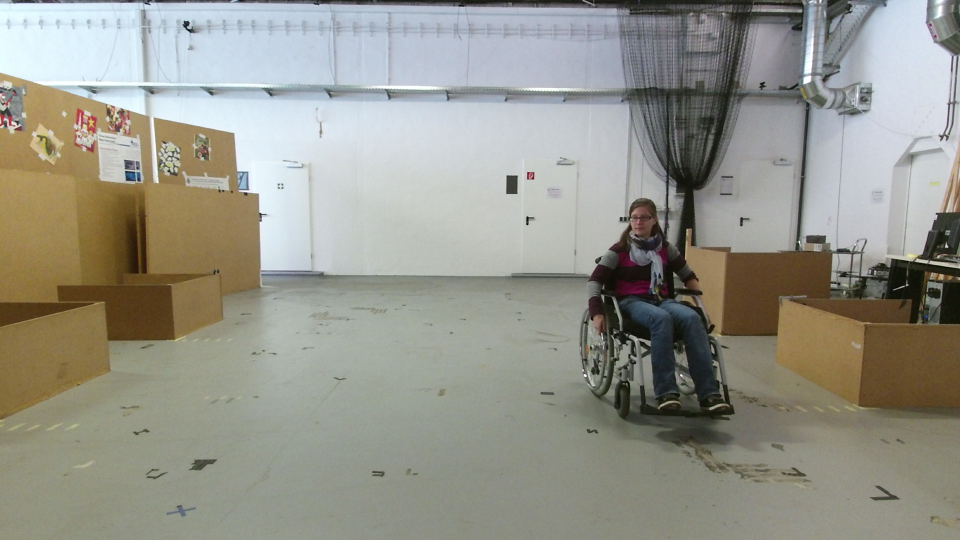wheelchair: (568, 194, 736, 423)
